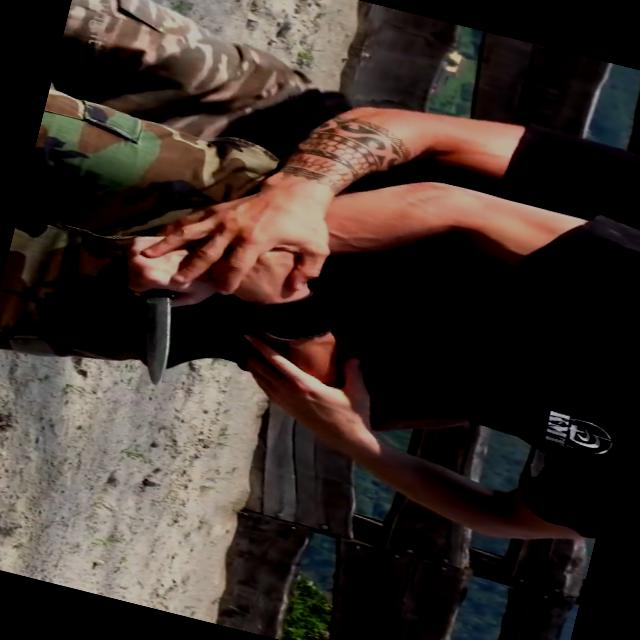knife: (86, 229, 216, 398)
